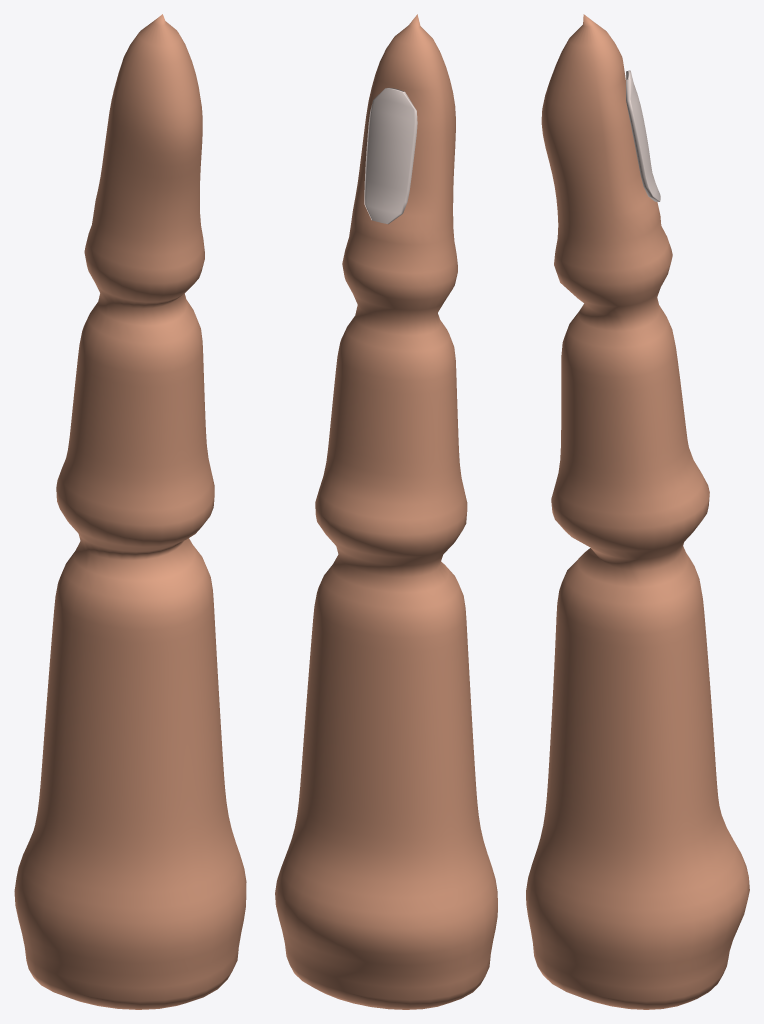
File: Finger.obj
3 views of the same model, side by side, from view 1: azimuth 30°, elevation 25°; view 2: azimuth 150°, elevation 25°; view 3: azimuth 270°, elevation 25° (orthographic). The views are drawn at different scales.
Parts seen in each view (by area): view 1: IndexFinger; view 2: IndexFinger; view 3: IndexFinger.
Part boxes in pixels (x1=…): IndexFinger: x1=14, y1=14, x2=246, y2=1009; IndexFinger: x1=275, y1=14, x2=497, y2=1009; IndexFinger: x1=526, y1=14, x2=749, y2=1009.
Bounding box in the file's own units: 0.0213 × 0.0988 × 0.0206.
